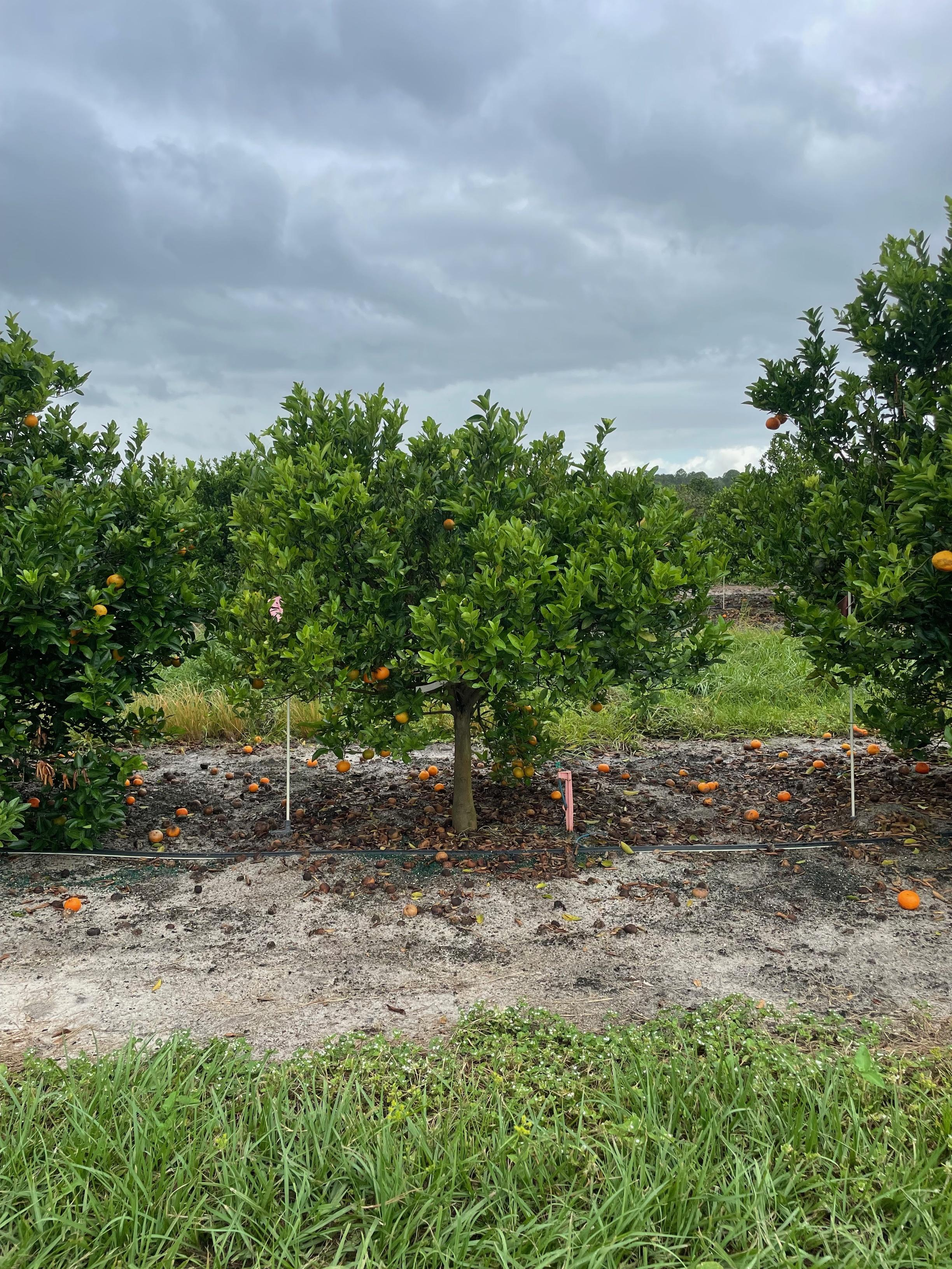fruit_on_ground: (930, 546, 952, 574), (105, 572, 127, 592), (89, 600, 110, 620), (21, 410, 41, 430), (110, 644, 129, 663), (342, 665, 361, 682), (362, 667, 379, 685), (765, 415, 782, 432), (441, 515, 458, 532), (50, 813, 68, 829), (394, 709, 411, 725), (518, 701, 534, 717), (374, 666, 391, 681), (250, 676, 266, 691), (335, 759, 351, 774), (773, 410, 789, 425), (504, 743, 519, 758), (505, 699, 519, 715), (490, 761, 505, 775), (377, 745, 392, 759), (361, 747, 375, 761), (170, 655, 184, 669), (160, 654, 174, 668), (512, 766, 525, 780), (523, 764, 536, 778), (589, 701, 604, 713), (511, 757, 524, 770), (527, 734, 538, 747), (129, 724, 142, 735)
fruit_on_tree: (896, 888, 921, 911), (62, 895, 83, 912), (691, 883, 710, 899), (402, 902, 419, 919), (914, 759, 931, 775), (866, 741, 882, 756), (744, 807, 760, 822), (147, 828, 163, 843), (163, 824, 180, 838), (617, 813, 632, 828), (26, 795, 41, 809), (897, 762, 912, 776), (776, 788, 791, 802), (433, 850, 449, 863), (361, 875, 376, 888), (597, 761, 612, 774), (696, 781, 711, 793), (175, 806, 190, 818), (748, 738, 763, 750), (418, 769, 431, 782), (812, 757, 826, 769), (293, 807, 306, 819), (432, 781, 446, 792), (840, 740, 852, 752), (550, 789, 562, 801), (427, 765, 439, 777), (279, 797, 292, 808), (253, 733, 266, 744), (619, 770, 632, 781), (689, 779, 703, 789), (247, 781, 259, 792), (242, 743, 254, 754), (125, 794, 137, 805), (305, 758, 318, 768), (258, 776, 271, 786), (131, 773, 144, 783), (121, 776, 132, 787), (136, 787, 147, 798), (203, 804, 214, 815), (165, 772, 177, 782), (821, 729, 833, 739), (664, 777, 676, 787), (678, 767, 690, 777), (705, 781, 717, 791), (778, 748, 790, 758), (138, 759, 149, 769), (132, 778, 143, 787), (712, 755, 723, 764), (209, 766, 220, 775), (224, 771, 234, 780)
